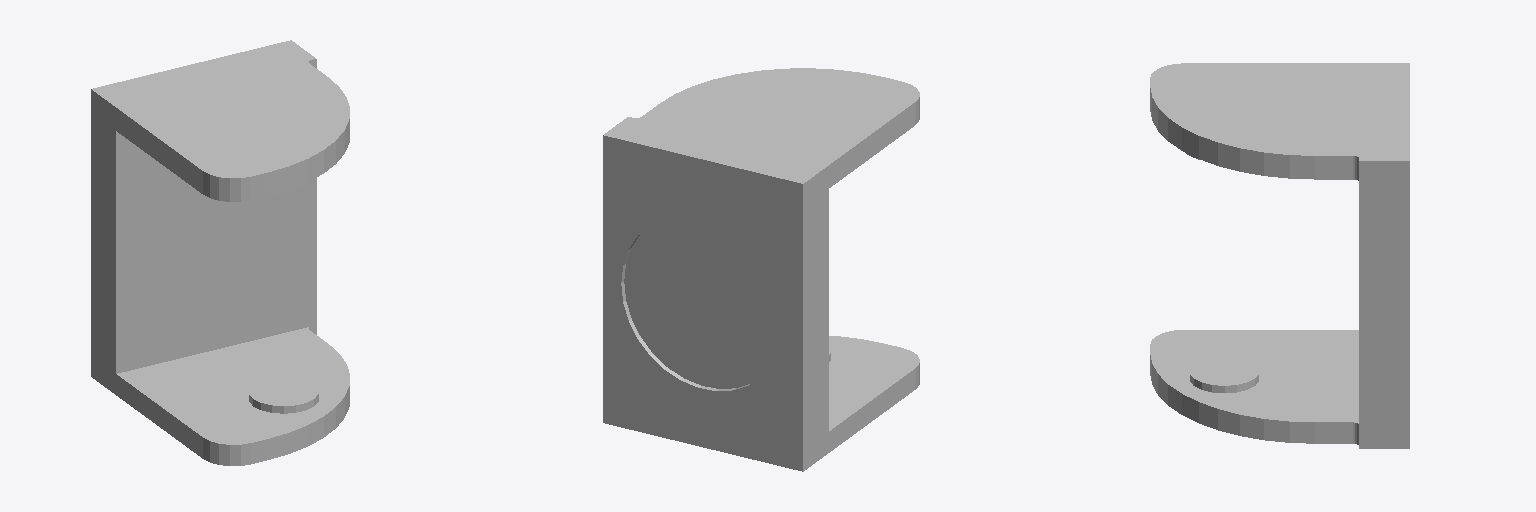
3 renders of one model, left to right at view 1: azimuth 30°, elevation 25°; view 2: azimuth 150°, elevation 25°; view 3: azimuth 270°, elevation 25°, orthographic.
Visible parts, largest first — view 1: <STL_BINARY>; view 2: <STL_BINARY>; view 3: <STL_BINARY>.
Boxes of the visible parts, x1,y1,x2,y2 form: <STL_BINARY>: [91, 40, 349, 465]; <STL_BINARY>: [603, 68, 919, 471]; <STL_BINARY>: [1150, 63, 1409, 448].
Bounding box in the file's own units: 0.0196 × 0.0269 × 0.022.